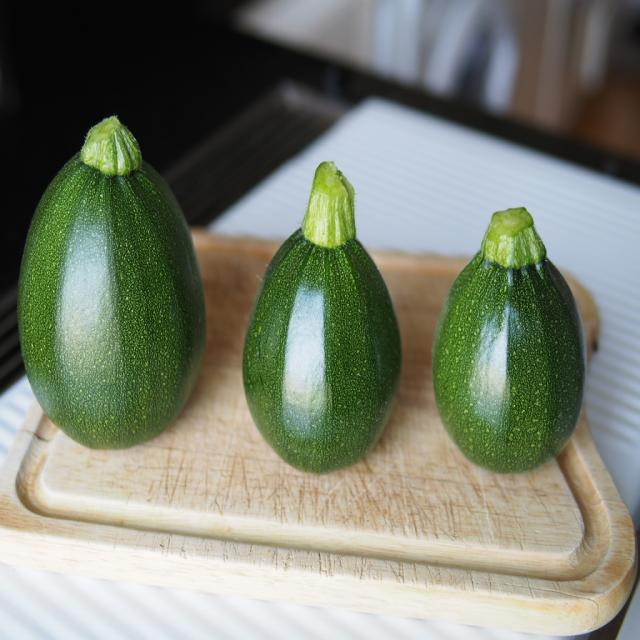Zucchini: (12, 106, 202, 446), (243, 158, 403, 476), (431, 201, 587, 472)
